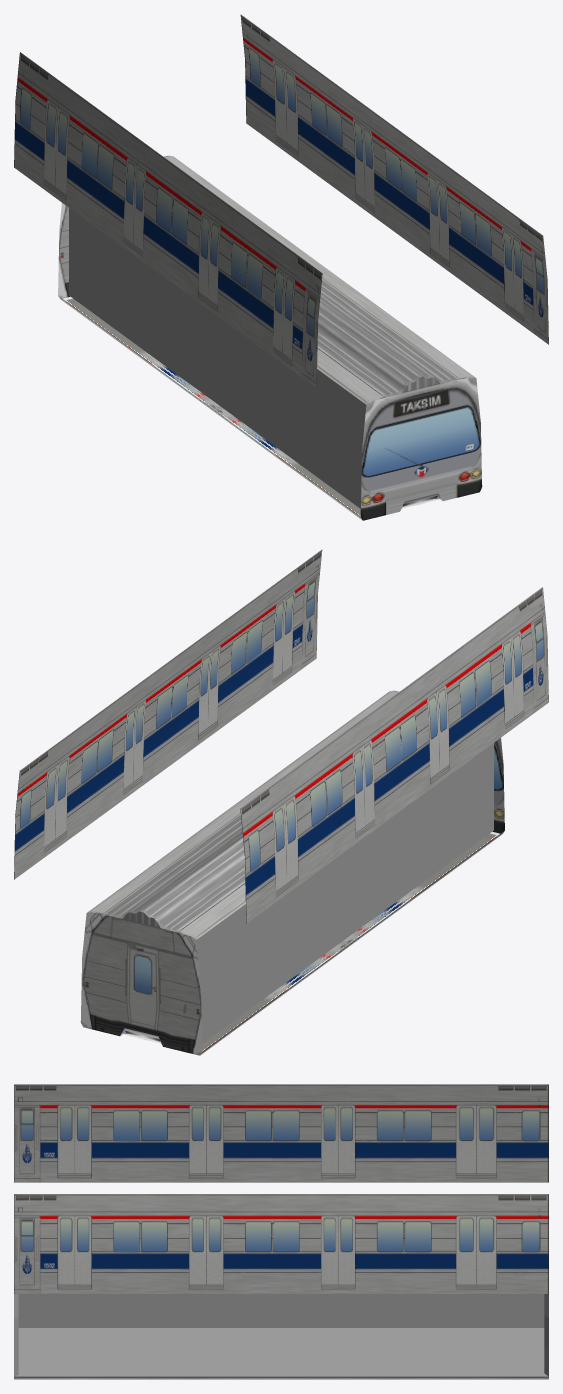
File: Subway Train V2 (1).fbx
3 views of the same model, one above another, from view 1: azimuth 30°, elevation 25°; view 2: azimuth 150°, elevation 25°; view 3: azimuth 270°, elevation 25° (orthographic). The views are drawn at different scales.
Parts seen in each view (by area): view 1: Subway_Car_Ver_2:Subway_Car_Ver_2:polySurface1, Subway_Car_Ver_2:Subway_Car_Ver_2:polySurface2, Subway_Car_Ver_2:polySurface1; view 2: Subway_Car_Ver_2:Subway_Car_Ver_2:polySurface1, Subway_Car_Ver_2:Subway_Car_Ver_2:polySurface2, Subway_Car_Ver_2:polySurface1; view 3: Subway_Car_Ver_2:polySurface1, Subway_Car_Ver_2:Subway_Car_Ver_2:polySurface2, Subway_Car_Ver_2:Subway_Car_Ver_2:polySurface1.
Boxes of the visible parts, x1=… form: Subway_Car_Ver_2:Subway_Car_Ver_2:polySurface1: x1=58, y1=155, x2=482, y2=520; Subway_Car_Ver_2:Subway_Car_Ver_2:polySurface2: x1=14, y1=52, x2=322, y2=388; Subway_Car_Ver_2:polySurface1: x1=240, y1=14, x2=548, y2=344; Subway_Car_Ver_2:Subway_Car_Ver_2:polySurface1: x1=80, y1=690, x2=504, y2=1055; Subway_Car_Ver_2:Subway_Car_Ver_2:polySurface2: x1=240, y1=587, x2=548, y2=923; Subway_Car_Ver_2:polySurface1: x1=14, y1=549, x2=322, y2=879; Subway_Car_Ver_2:polySurface1: x1=14, y1=1194, x2=548, y2=1293; Subway_Car_Ver_2:Subway_Car_Ver_2:polySurface2: x1=14, y1=1084, x2=548, y2=1182; Subway_Car_Ver_2:Subway_Car_Ver_2:polySurface1: x1=14, y1=1294, x2=548, y2=1379.
Size of the model in its own units: 5.22 by 5.52 by 11.77.
Materials: 2 (1 with a texture image).
